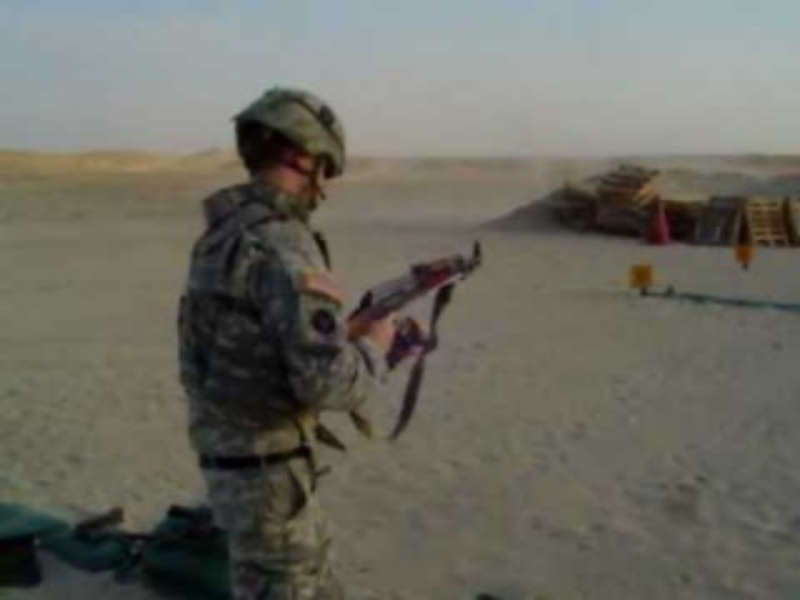person: (176, 85, 427, 600)
weapon: (342, 240, 483, 354)
